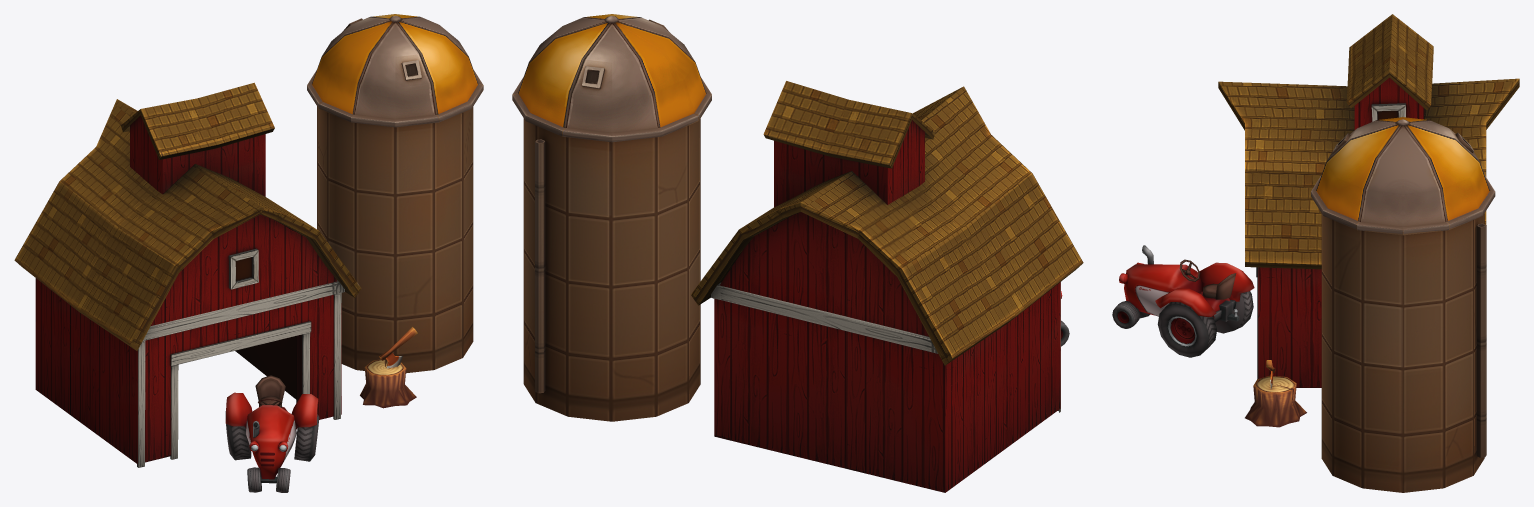
Rendered from farm.obj.
The picture shows the model from 3 angles, left to right: view 1: azimuth 30°, elevation 25°; view 2: azimuth 150°, elevation 25°; view 3: azimuth 270°, elevation 25°; orthographic projection. The views are drawn at different scales.
Parts seen in each view (by area): view 1: farm_barn_farm_barn_mesh, farm_silo_farm_silo_mesh, farm_tractor_farm_tractor_mesh, farm_stump_farm_stump_mesh; view 2: farm_barn_farm_barn_mesh, farm_silo_farm_silo_mesh; view 3: farm_silo_farm_silo_mesh, farm_barn_farm_barn_mesh, farm_tractor_farm_tractor_mesh, farm_stump_farm_stump_mesh.
Boxes of the visible parts, <box> form: farm_barn_farm_barn_mesh: <box>14,82,361,467</box>; farm_silo_farm_silo_mesh: <box>307,14,483,373</box>; farm_tractor_farm_tractor_mesh: <box>225,375,319,492</box>; farm_stump_farm_stump_mesh: <box>360,327,417,408</box>; farm_barn_farm_barn_mesh: <box>691,81,1083,492</box>; farm_silo_farm_silo_mesh: <box>512,14,711,421</box>; farm_silo_farm_silo_mesh: <box>1311,117,1495,492</box>; farm_barn_farm_barn_mesh: <box>1218,14,1519,387</box>; farm_tractor_farm_tractor_mesh: <box>1112,245,1254,357</box>; farm_stump_farm_stump_mesh: <box>1245,360,1306,427</box>.
Bounding box in the file's own units: 4.73 × 3.52 × 3.83.
